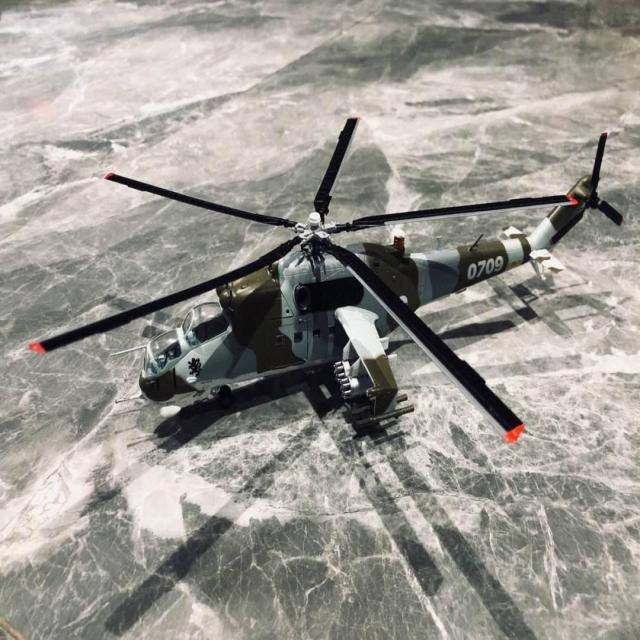MIL_HELO: (19, 104, 640, 468)
